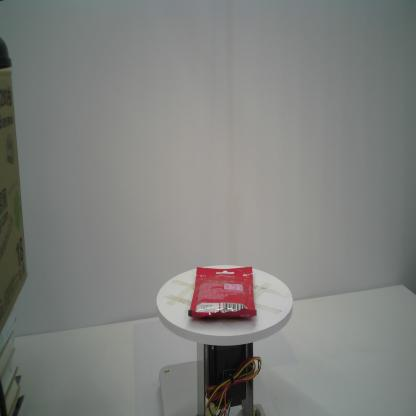Candy: (188, 265, 258, 321)
